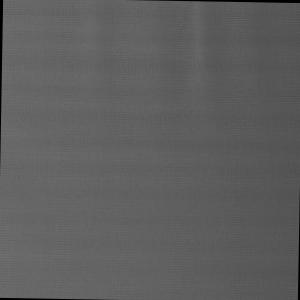Wrinkle: (171, 2, 239, 120)
